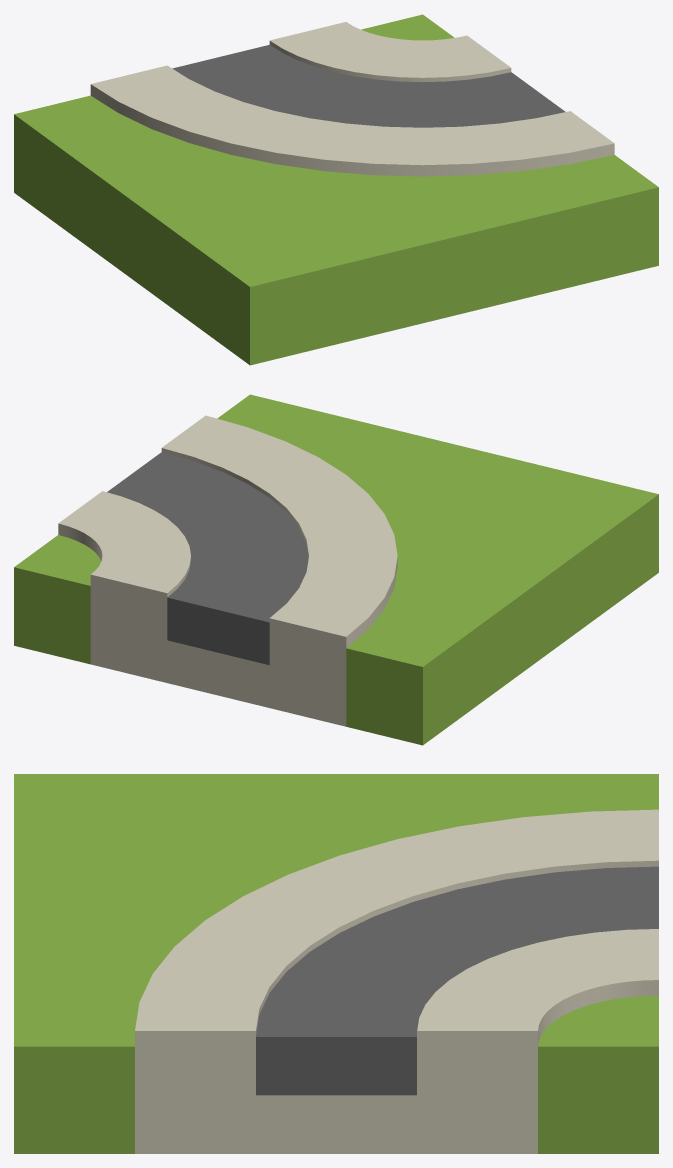
The model's file is road-one-way-curve-sidewalk-grass-14.obj.
3 renders of one model, top to bottom at view 1: azimuth 30°, elevation 25°; view 2: azimuth 150°, elevation 25°; view 3: azimuth 270°, elevation 25°, orthographic. The views are drawn at different scales.
Parts seen in each view (by area): view 1: Mesh1_Group1_Model.154; view 2: Mesh1_Group1_Model.154; view 3: Mesh1_Group1_Model.154.
Boxes of the visible parts, left/top/right/bottom form: Mesh1_Group1_Model.154: left=14, top=14, right=658, bottom=365; Mesh1_Group1_Model.154: left=14, top=394, right=658, bottom=745; Mesh1_Group1_Model.154: left=14, top=774, right=658, bottom=1153.
Bounding box in the file's own units: 3 × 0.63 × 3.
